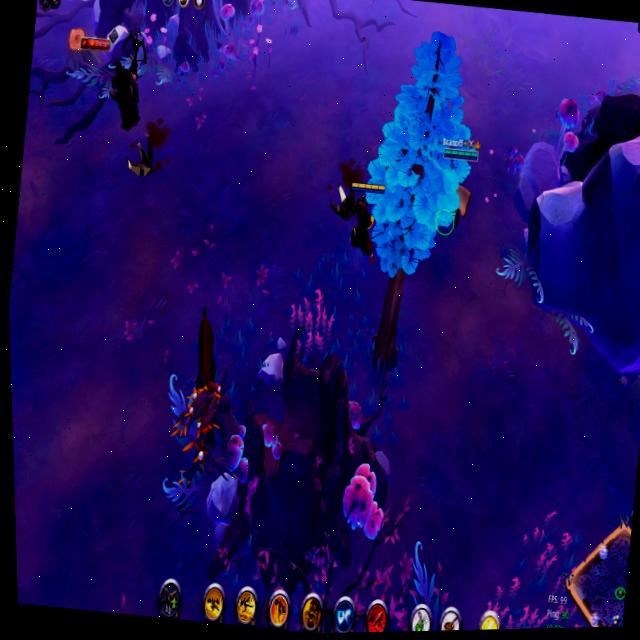ore: (151, 359, 250, 525), (95, 23, 159, 135), (180, 299, 234, 418), (364, 0, 396, 17)
red: (421, 127, 484, 242), (332, 171, 391, 265)
wisp caged: (331, 19, 500, 404)
